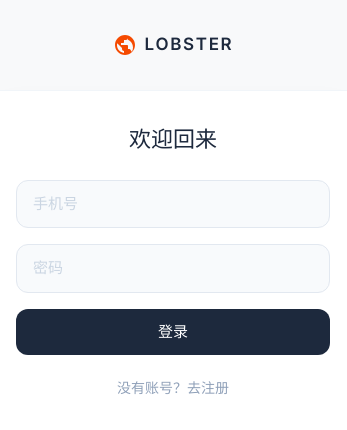
LoginPage › shows error on failed login
This screenshot has width=347, height=430.
In the field with placeholder "手机号": (173, 204) [16,180,330,228], type "13800138000"
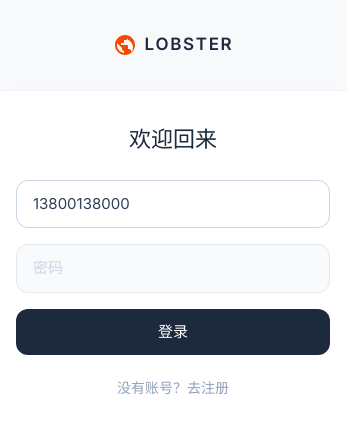
In the password field with placeholder "密码": (173, 268) [16,244,330,292], type "badpass"
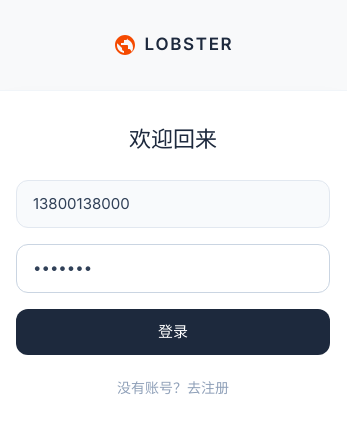
Click the button "登录": click(173, 332) [16,308,330,355]
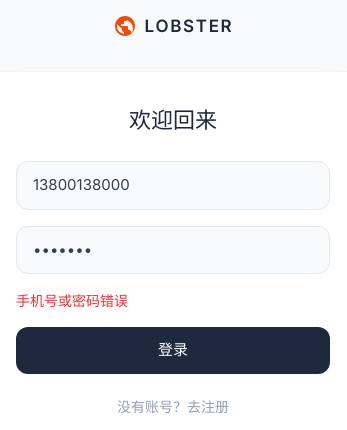
Check: the text "手机号或密码错误" is shown, box [16,292,128,309]
